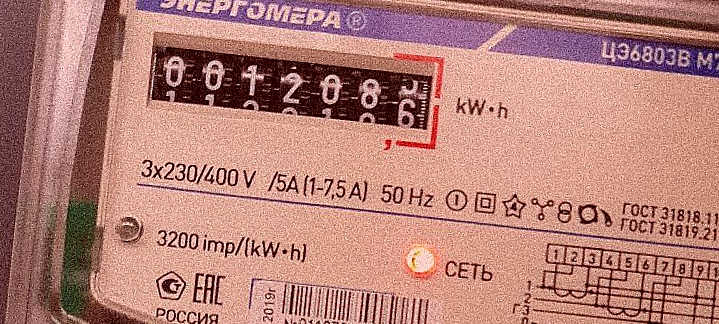0: (317, 69, 345, 106), (201, 54, 227, 93), (163, 50, 186, 89)
1: (241, 60, 262, 98)
2: (278, 68, 307, 106)
6: (393, 93, 419, 130)
8: (356, 74, 382, 112)
screen: (133, 18, 455, 165)
